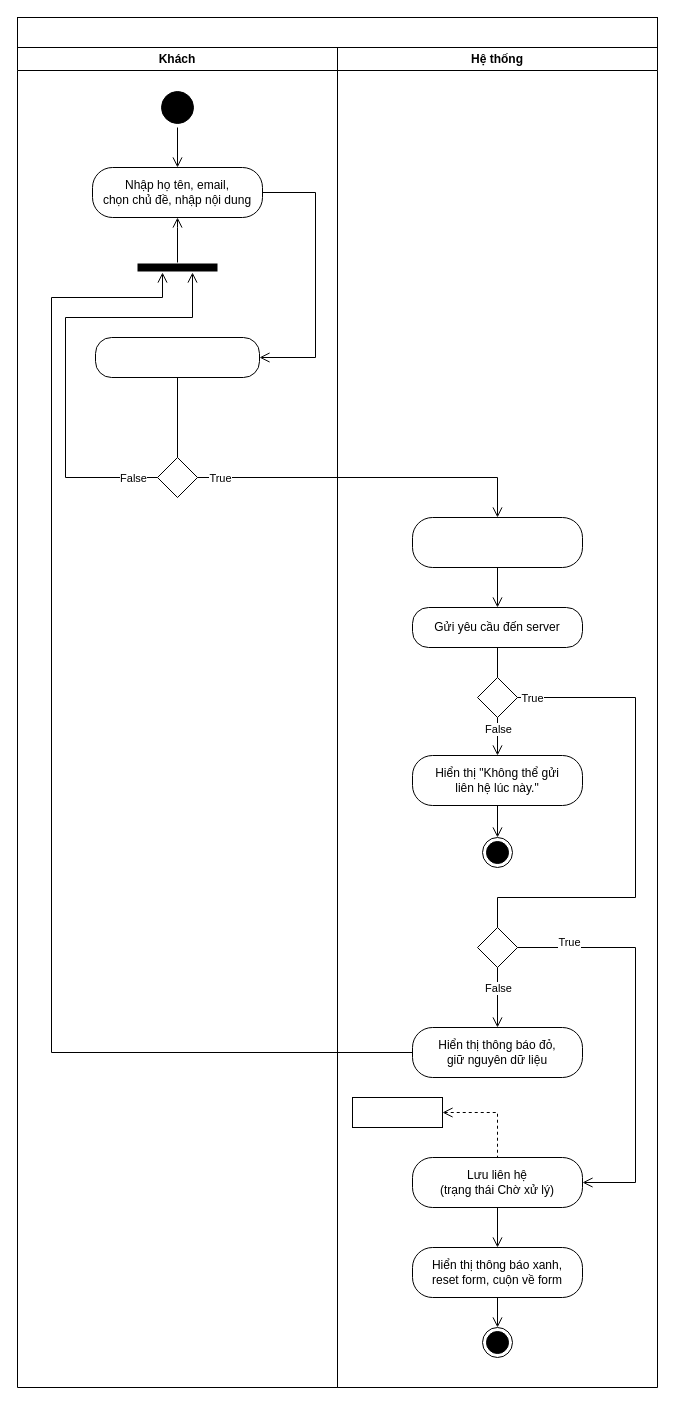
The diagram is 675 pixels wide and 1405 high, and some of its shapes have lost their labels. The shapes that lost their labels are listed below. From the top down, each one's centre as x and y in pixels, then its label:
the point at 337,32: GỬI LIÊN HỆ
the point at 177,357: Nhấn "Gửi liên hệ"
the point at 497,542: Đổi nút thành "Đang gửi...", vô hiệu hoá
the point at 397,1112: Liên hệ
